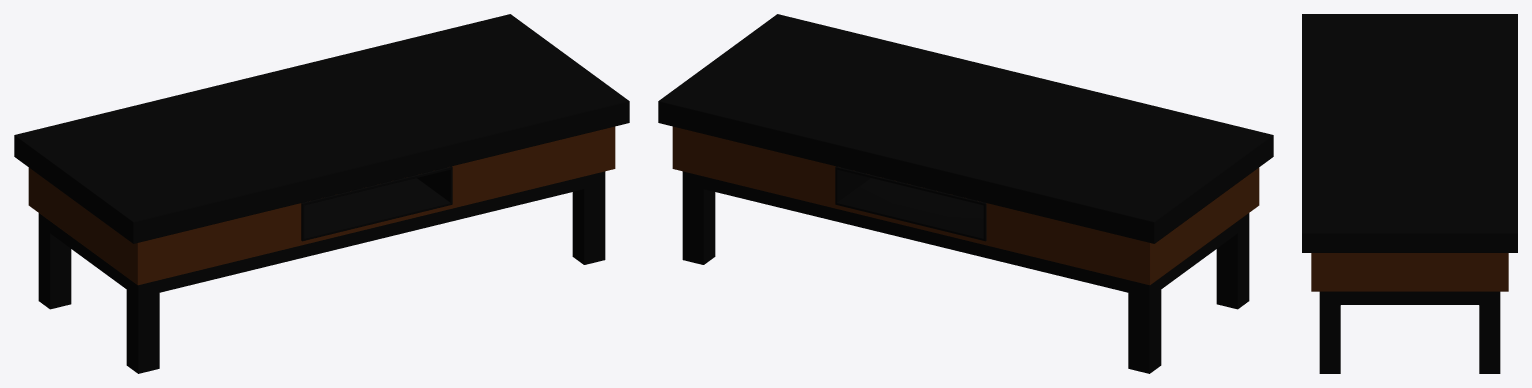
File: mesaCentral.fbx
3 renders of one model, left to right at view 1: azimuth 30°, elevation 25°; view 2: azimuth 150°, elevation 25°; view 3: azimuth 270°, elevation 25°, orthographic. The views are drawn at different scales.
Parts seen in each view (by area): view 1: CoffeeTable; view 2: CoffeeTable; view 3: CoffeeTable.
Boxes of the visible parts, x1,y1,x2,y2 form: CoffeeTable: (14,14,629,373); CoffeeTable: (658,14,1273,373); CoffeeTable: (1302,14,1517,373).
Bounding box in the file's own units: 143 × 44.64 × 59.37.
1 material, 1 textured.
